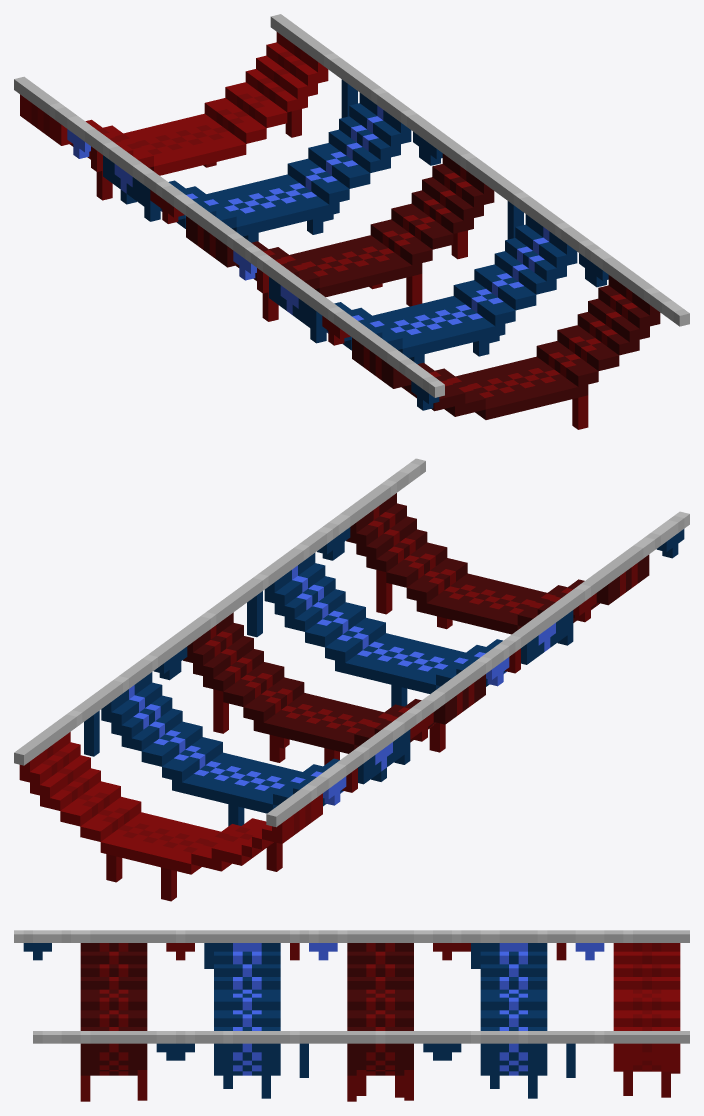
The model's file is guirnalda.obj.
3 renders of one model, top to bottom at view 1: azimuth 30°, elevation 25°; view 2: azimuth 150°, elevation 25°; view 3: azimuth 270°, elevation 25°, orthographic. The views are drawn at different scales.
Bounding box in the file's own units: 2.6 × 1.3 × 7.1.
Materials: 1 (1 with a texture image).
